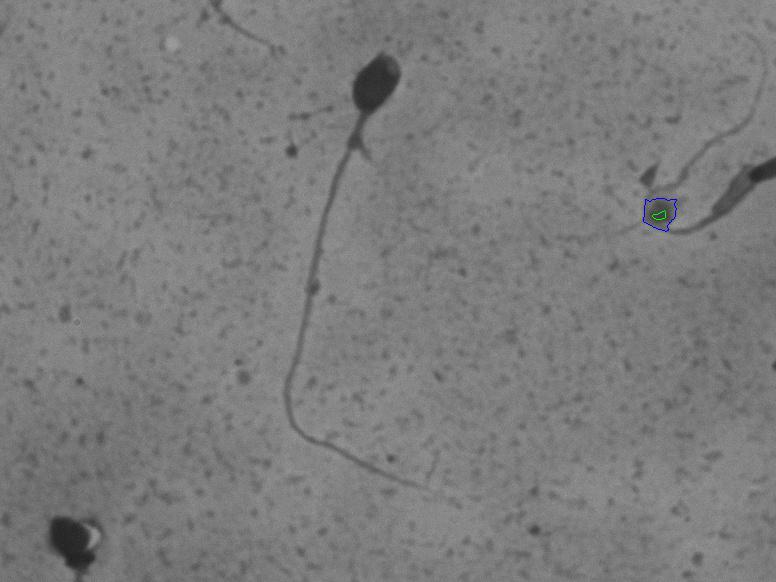Abnormal: (263, 32, 451, 520)
